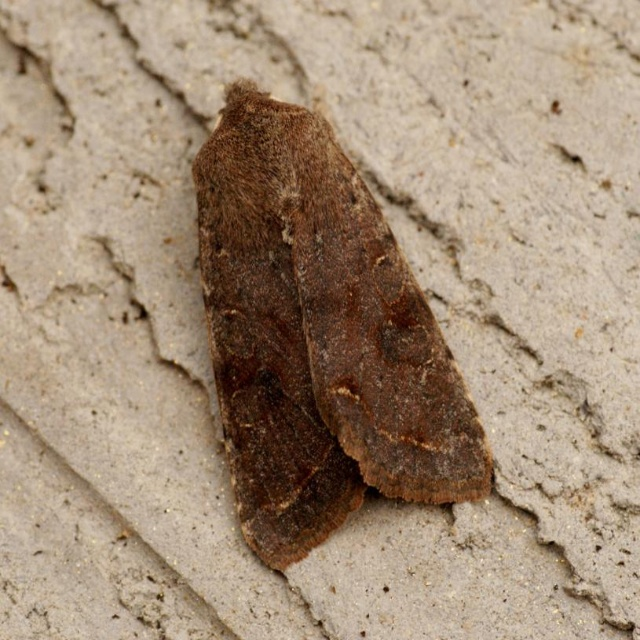Moths and butterflies: (189, 74, 498, 574)
